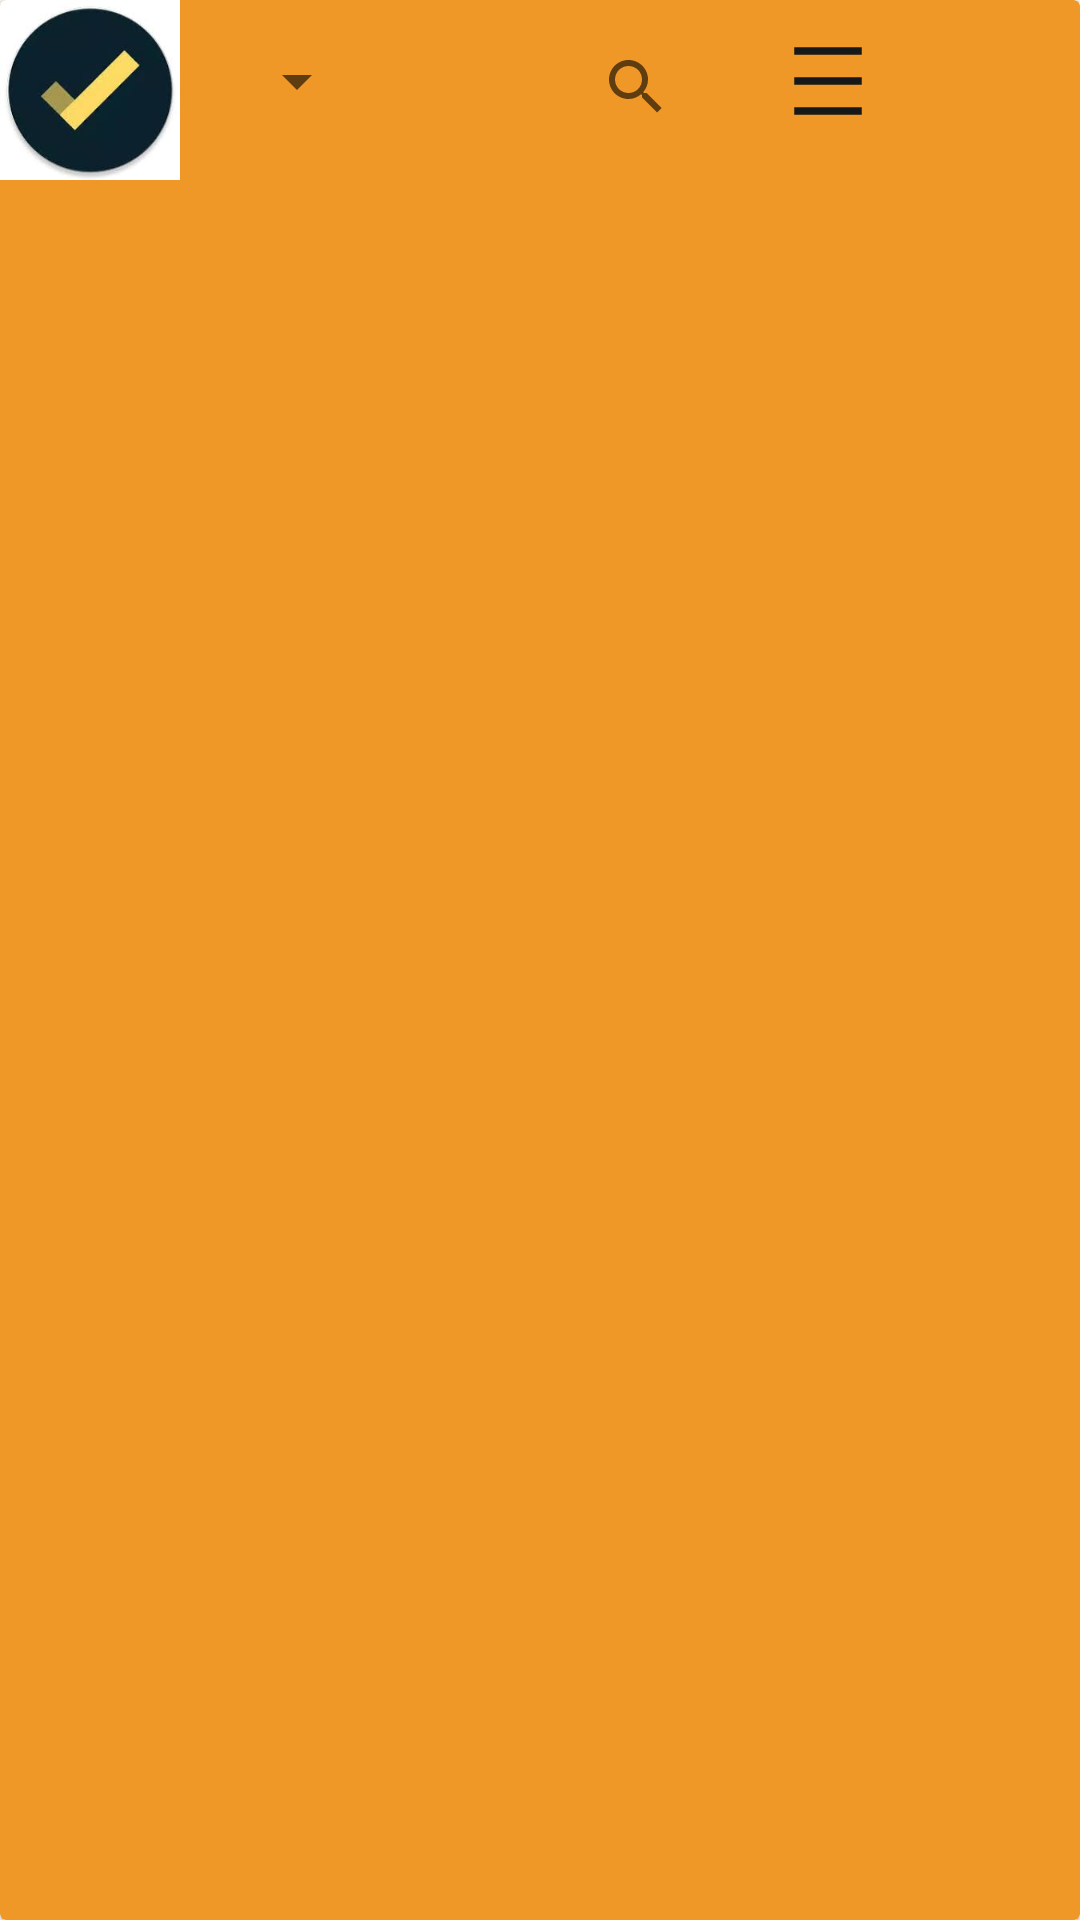

Named icons in this screenshot (1080*1920) and their centers, [x,y]:
density medium: [828,81]
